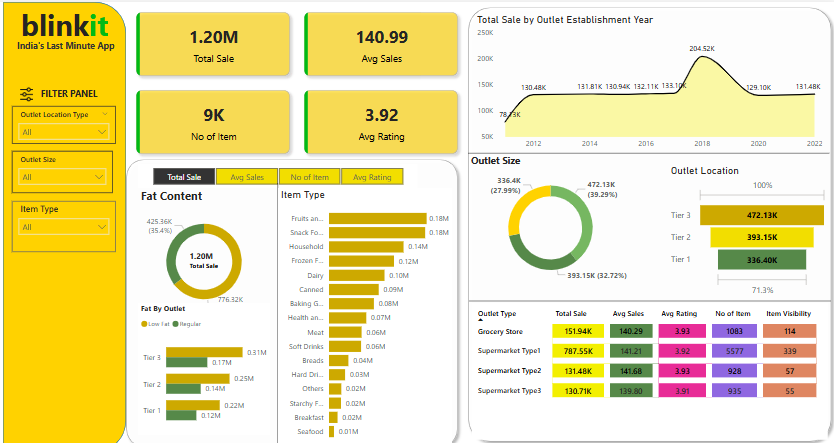

Layout of this report page (visuals, bound fields, positions):
{"tool":"powerbi","page":{"name":"Page 1","canvas":[1400,800],"ordinal":0},"visuals":[{"type":"shape","box":[10,0,205,750],"z":0},{"type":"textbox","box":[27.5,0,168.8,96.2],"z":1000},{"type":"cardVisual","fields":{"Data":["Table1.Total Sale","Table1.Avg Sales","Table1.No of Item","Table1.Avg Rating"]},"box":[215,0,570,270],"z":2000},{"type":"shape","box":[206.7,253.3,570,496.7],"z":3000},{"type":"donutChart","title":"Fat Content","fields":{"Y":["Table1.Total Sale"],"Category":["Table1.Item Fat Content"]},"box":[234.4,310,220,220],"z":4000},{"type":"slicer","fields":{"Values":["Metrix.Metrix"]},"box":[234.4,270,465.6,40],"z":5000},{"type":"shape","box":[420,302.2,95.6,440],"z":6000},{"type":"cardVisual","fields":{"Data":["Table1.Total Sale"]},"box":[312.2,388.9,90,84.4],"z":7000},{"type":"clusteredBarChart","title":"Fat By Outlet ","fields":{"Y":["Table1.Total Sale"],"Category":["Table1.Outlet Location Type"],"Series":["Table1.Item Fat Content"]},"box":[234.4,502.2,220,220],"z":8000},{"type":"barChart","title":"Item Type","fields":{"Y":["Table1.Total Sale"],"Category":["Table1.Item Type"]},"box":[467.8,310,290,430],"z":9000},{"type":"shape","box":[776.7,0,623.3,742.2],"z":10000},{"type":"lineChart","fields":{"Category":["Table1.Outlet Establishment Year"],"Y":["Table1.Total Sale"]},"box":[795.6,17.8,585.6,235.6],"z":11000},{"type":"shape","box":[785.6,222.2,603.3,61.1],"z":12000},{"type":"donutChart","title":"Outlet Size","fields":{"Y":["Table1.Total Sale"],"Category":["Table1.Outlet Location Type"]},"box":[785.6,253.3,275,225],"z":13000},{"type":"funnel","title":"Outlet Location","fields":{"Y":["Sum(Table1.Sales)"],"Category":["Table1.Outlet Location Type"]},"box":[1118.9,270,270,225.6],"z":14000},{"type":"shape","box":[786.7,473.3,603.3,50],"z":15000},{"type":"pivotTable","fields":{"Rows":["Table1.Outlet Type"],"Values":["Table1.Total Sale","Table1.Avg Sales","Table1.Avg Rating","Table1.No of Item","Sum(Table1.Item Visibility)"]},"box":[791.1,502.2,593.3,227.8],"z":16000},{"type":"slicer","fields":{"Values":["Table1.Outlet Location Type"]},"box":[25,173.3,173.3,63.3],"z":17000},{"type":"slicer","fields":{"Values":["Table1.Outlet Size"]},"box":[25,248.3,168.3,70],"z":18000},{"type":"slicer","fields":{"Values":["Table1.Item Type"]},"box":[25,331.7,173.3,85],"z":19000},{"type":"textbox","box":[27.5,56.7,203.3,30],"z":19001},{"type":"textbox","box":[33.3,135.8,173.3,41.7],"z":19002},{"type":"image","box":[27.5,135,42.5,37.5],"z":19003}]}

Visuals, with their boxes on the page's 1400x800 design canvas (x1, y1, x2, y2). These are canvas units, not pixel positions in the 834x443 screenshot, which may show the page scaled, cropped or inside an application window:
shape: rect(10, 0, 215, 750)
textbox: rect(28, 0, 196, 96)
cardVisual - Table1.Total Sale x Table1.Avg Sales: rect(215, 0, 785, 270)
shape: rect(207, 253, 777, 750)
"Fat Content" donutChart: rect(234, 310, 454, 530)
slicer - Metrix.Metrix: rect(234, 270, 700, 310)
shape: rect(420, 302, 516, 742)
cardVisual - Table1.Total Sale: rect(312, 389, 402, 473)
"Fat By Outlet " clusteredBarChart: rect(234, 502, 454, 722)
"Item Type" barChart: rect(468, 310, 758, 740)
shape: rect(777, 0, 1400, 742)
lineChart - Table1.Outlet Establishment Year x Table1.Total Sale: rect(796, 18, 1381, 253)
shape: rect(786, 222, 1389, 283)
"Outlet Size" donutChart: rect(786, 253, 1061, 478)
"Outlet Location" funnel: rect(1119, 270, 1389, 496)
shape: rect(787, 473, 1390, 523)
pivotTable - Table1.Outlet Type x Table1.Total Sale: rect(791, 502, 1384, 730)
slicer - Table1.Outlet Location Type: rect(25, 173, 198, 237)
slicer - Table1.Outlet Size: rect(25, 248, 193, 318)
slicer - Table1.Item Type: rect(25, 332, 198, 417)
textbox: rect(28, 57, 231, 87)
textbox: rect(33, 136, 207, 178)
image: rect(28, 135, 70, 172)
